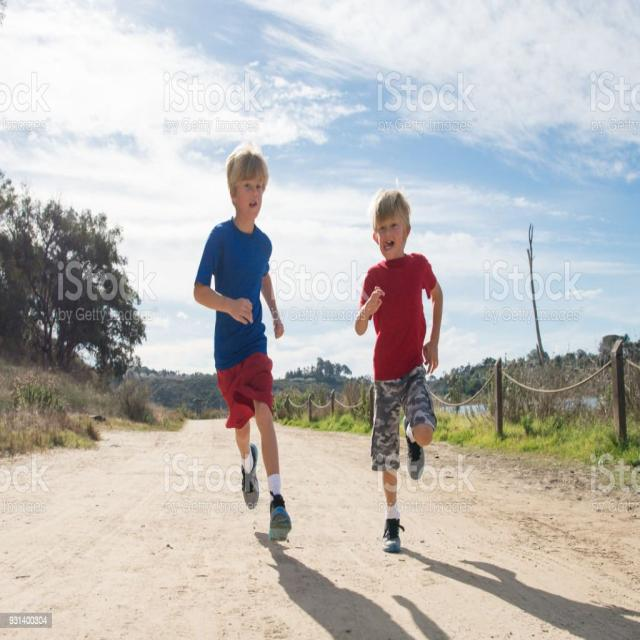Person: (194, 148, 291, 539), (353, 188, 442, 554)
